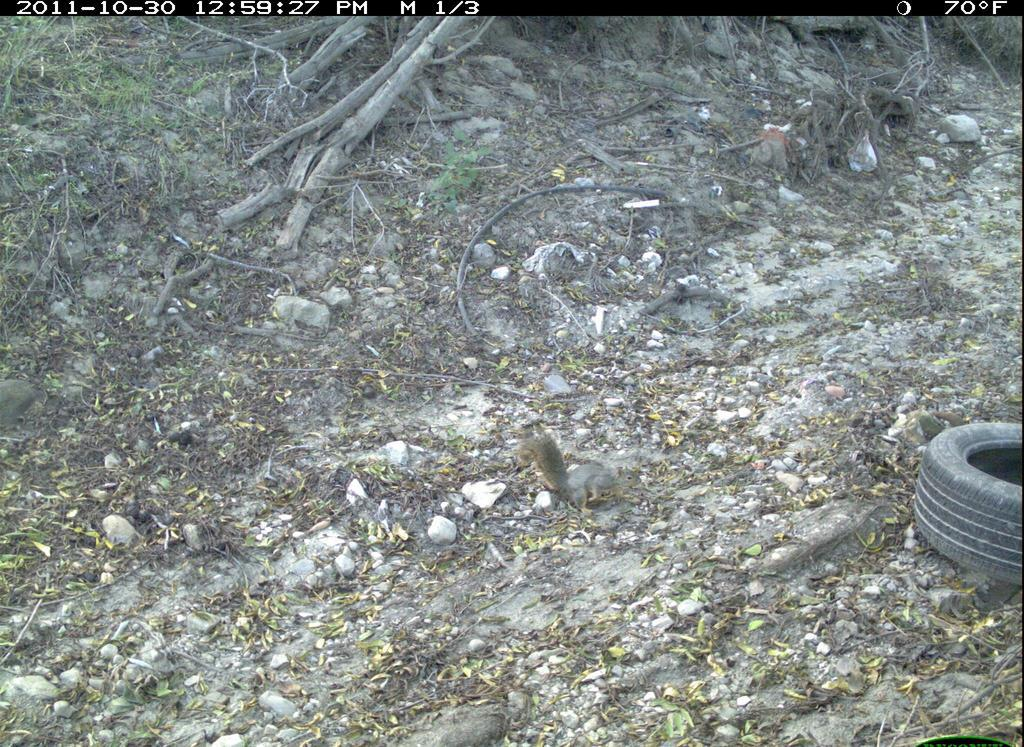squirrel: (510, 419, 652, 516)
